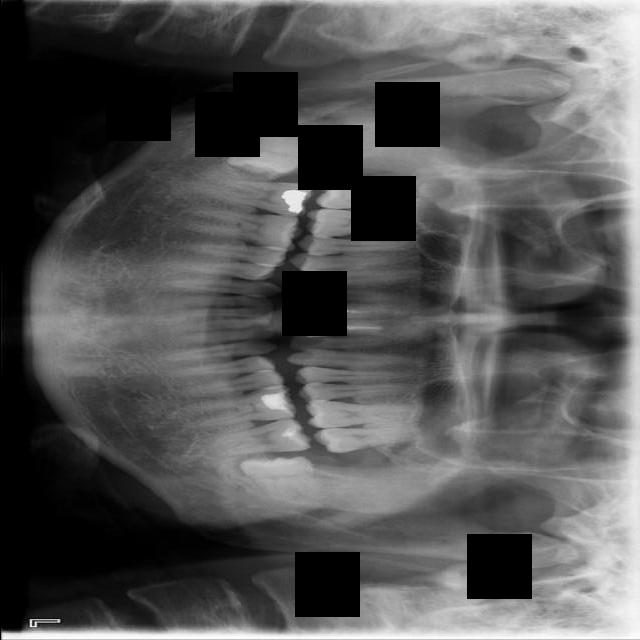52: (259, 172, 316, 224), (240, 382, 298, 430), (259, 414, 312, 459), (247, 381, 297, 428), (288, 302, 347, 338), (259, 181, 315, 218), (254, 418, 309, 455), (293, 319, 344, 336), (291, 303, 345, 319)
73: (333, 318, 402, 335), (332, 304, 407, 318), (20, 600, 36, 608)
BioHorizons Implant: (313, 428, 420, 453)
Biomet 3i Implant: (238, 455, 321, 504)
Blue Sky Bio Implant: (202, 417, 312, 459)
Caries: (316, 182, 426, 212)
Implant: (194, 174, 314, 219)
Keystone Dental Implant: (222, 126, 315, 186)
